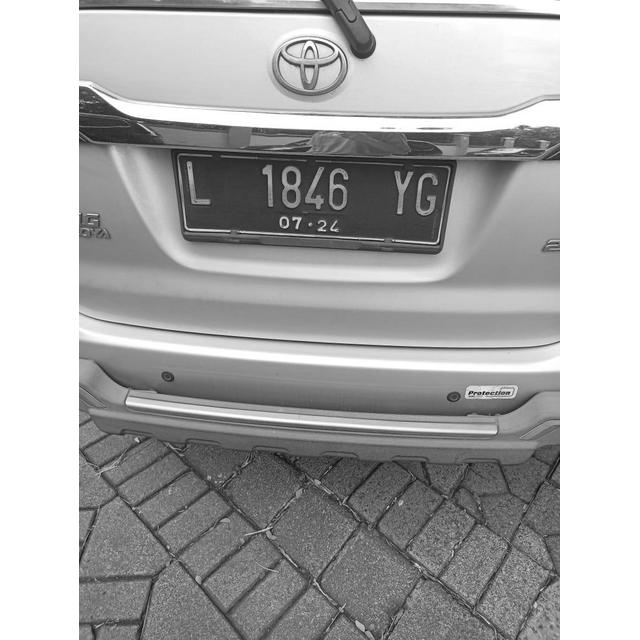license: (183, 156, 442, 235)
